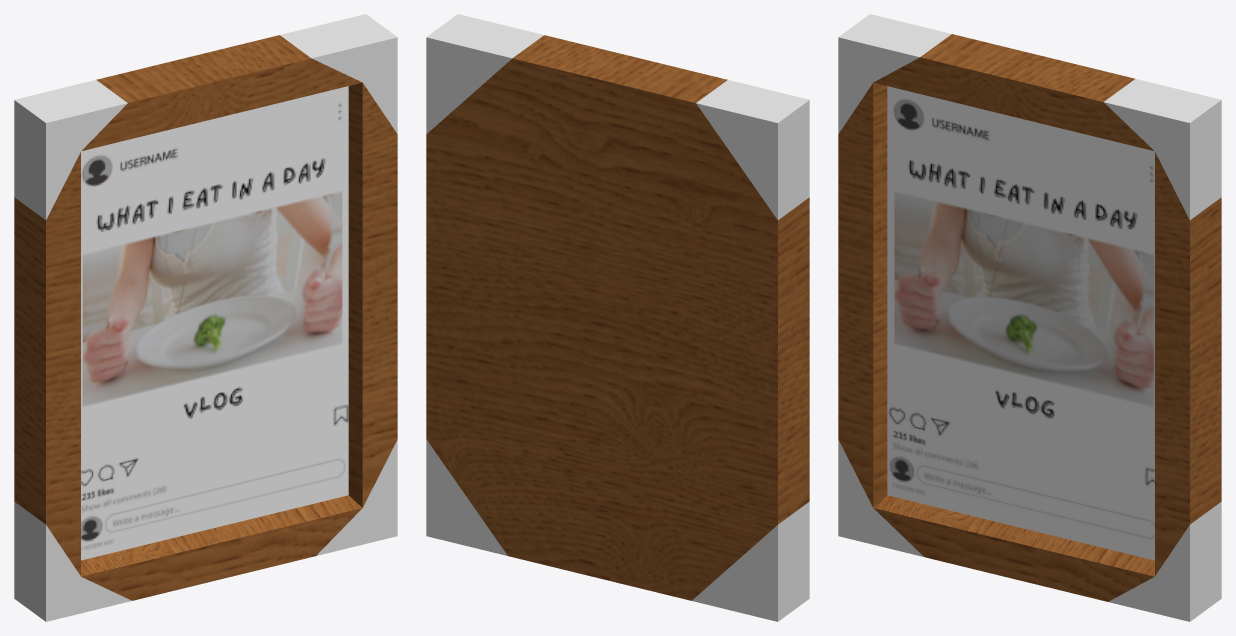
File: NegativeFrame2.fbx
The picture shows the model from 3 angles, left to right: view 1: azimuth 30°, elevation 25°; view 2: azimuth 150°, elevation 25°; view 3: azimuth 330°, elevation 25°; orthographic projection.
Parts seen in each view (by area): view 1: pCube212; view 2: pCube212; view 3: pCube212.
Boxes of the visible parts, bbox=[...] form: pCube212: bbox=[14, 14, 397, 621]; pCube212: bbox=[426, 14, 809, 621]; pCube212: bbox=[838, 14, 1221, 621].
Bounding box in the file's own units: 0.8624 × 1.17 × 0.1355.
